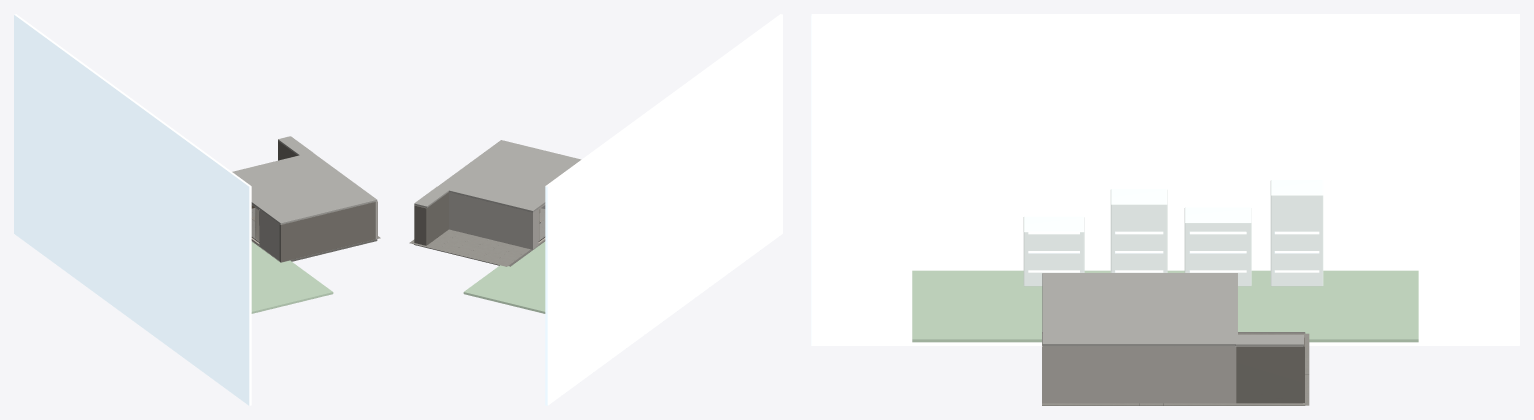
File: win_interior_demo.glb
3 views of the same model, side by side, from view 1: azimuth 30°, elevation 25°; view 2: azimuth 150°, elevation 25°; view 3: azimuth 270°, elevation 25° (orthographic). The views are drawn at different scales.
Parts seen in each view (by area): view 1: EXT_Sky, ARCH_FullCeiling, ARCH_EntranceRearWall, EXT_LandscapeBase, ARCH_LeftEntranceWall, ARCH_HallCeiling; view 2: EXT_Sky, ARCH_FullCeiling, ARCH_TVWall, EXT_LandscapeBase, ARCH_FloorFinish, ARCH_HallLeftWall, ARCH_HallEndWall, ARCH_HallCeiling; view 3: EXT_Sky, EXT_LandscapeBase, ARCH_FullCeiling, ARCH_RightWall, EXT_QuietResidence_03, EXT_QuietResidence_01, EXT_QuietResidence_02, ARCH_HallRightWall, EXT_QuietResidence_00, ARCH_FloorFinish, ARCH_HallCeiling.
Boxes of the visible parts, <box> form: EXT_Sky: <box>14,14,251,405</box>; ARCH_FullCeiling: <box>232,152,377,224</box>; ARCH_EntranceRearWall: <box>279,202,375,262</box>; EXT_LandscapeBase: <box>251,241,333,313</box>; ARCH_LeftEntranceWall: <box>259,209,279,260</box>; ARCH_HallCeiling: <box>278,136,312,155</box>; EXT_Sky: <box>545,14,782,405</box>; ARCH_FullCeiling: <box>437,140,581,212</box>; ARCH_TVWall: <box>449,192,533,249</box>; EXT_LandscapeBase: <box>463,241,545,313</box>; ARCH_FloorFinish: <box>409,208,545,266</box>; ARCH_HallLeftWall: <box>427,192,448,244</box>; ARCH_HallEndWall: <box>414,205,426,245</box>; ARCH_HallCeiling: <box>414,187,449,207</box>; EXT_Sky: <box>811,14,1519,345</box>; EXT_LandscapeBase: <box>912,270,1418,342</box>; ARCH_FullCeiling: <box>1042,273,1237,346</box>; ARCH_RightWall: <box>1042,345,1236,403</box>; EXT_QuietResidence_03: <box>1270,180,1323,286</box>; EXT_QuietResidence_01: <box>1110,189,1167,272</box>; EXT_QuietResidence_02: <box>1184,207,1251,286</box>; ARCH_HallRightWall: <box>1236,346,1302,403</box>; EXT_QuietResidence_00: <box>1023,216,1084,286</box>; ARCH_FloorFinish: <box>1042,333,1309,405</box>; ARCH_HallCeiling: <box>1235,335,1303,346</box>.
Size of the model in its own units: 17.9 by 18 by 35.
34 materials, 13 textured.
